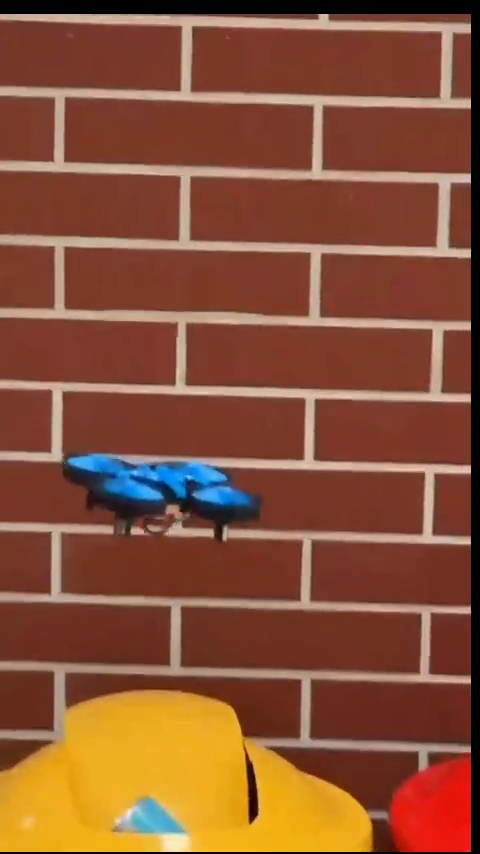drone: (63, 453, 263, 553)
